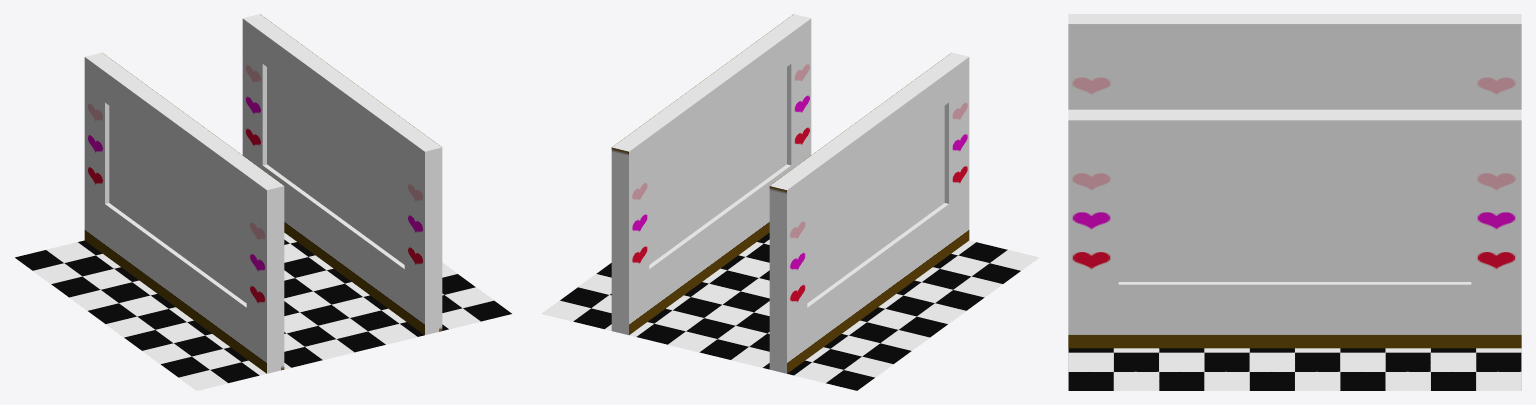
Rendered from Tunagi1.fbx.
3 renders of one model, left to right at view 1: azimuth 30°, elevation 25°; view 2: azimuth 150°, elevation 25°; view 3: azimuth 270°, elevation 25°, orthographic. The views are drawn at different scales.
Visible parts, largest first — view 1: pCube7 (×2), pCube8 (×2), pPlane2; view 2: pCube7 (×2), pCube8 (×2), pPlane2; view 3: pCube7 (×2), pCube8 (×2), pPlane2.
Boxes of the visible parts, x1,y1,x2,y2 form: pCube7 (×2): (84, 14, 442, 373); pCube8 (×2): (109, 67, 404, 302); pPlane2: (15, 233, 511, 390); pCube7 (×2): (611, 14, 969, 373); pCube8 (×2): (649, 67, 944, 302); pPlane2: (542, 233, 1038, 390); pCube7 (×2): (1068, 14, 1521, 348); pCube8 (×2): (1118, 62, 1471, 281); pPlane2: (1068, 348, 1521, 390).
Size of the model in its own units: 900 by 500 by 900.
3 materials, 2 textured.
